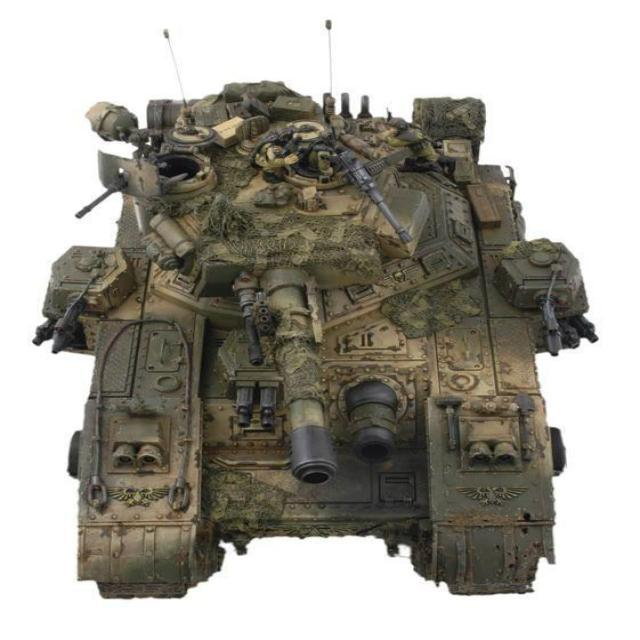MIL_MBT: (48, 55, 560, 612)
